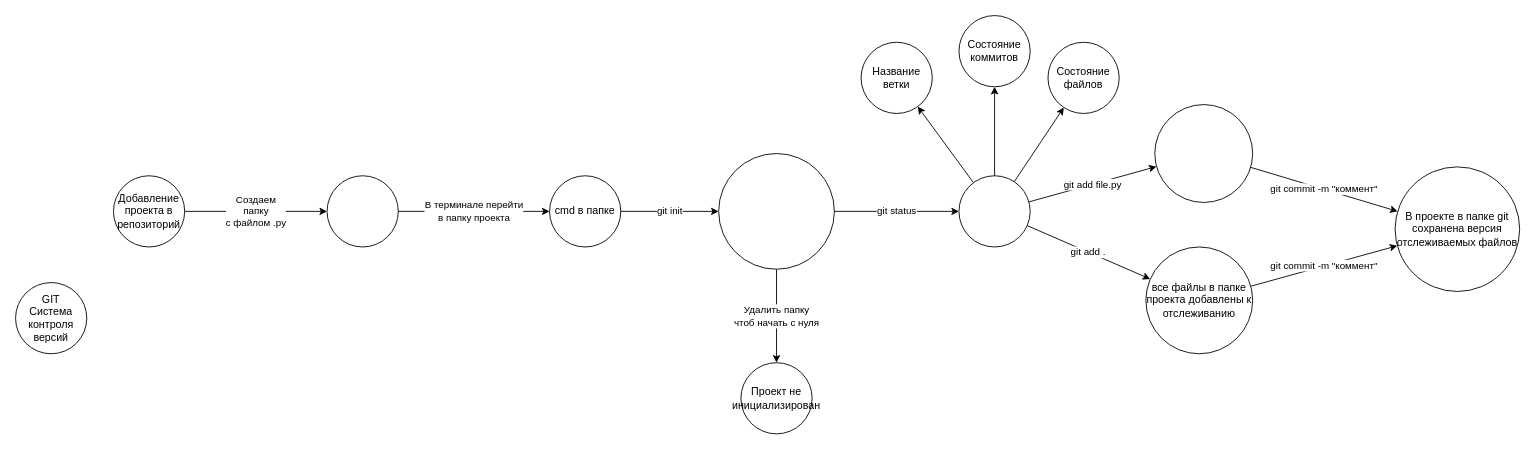
The diagram is 1535 pixels wide and 449 high, and some of its shapes have lost their labels. The shapes that lost their labels are listed below. From the top down, each one's box as (x1, y1, x2, y2) in pixels, then its label:
(1154, 104, 1253, 202): Конкретный файл добавлен к отслеживанию
(326, 175, 398, 247): Командная строка
(718, 153, 834, 269): Папка помечена, как инициированная, в папке появилась папка git
(958, 175, 1030, 247): Информация о статусе гита
